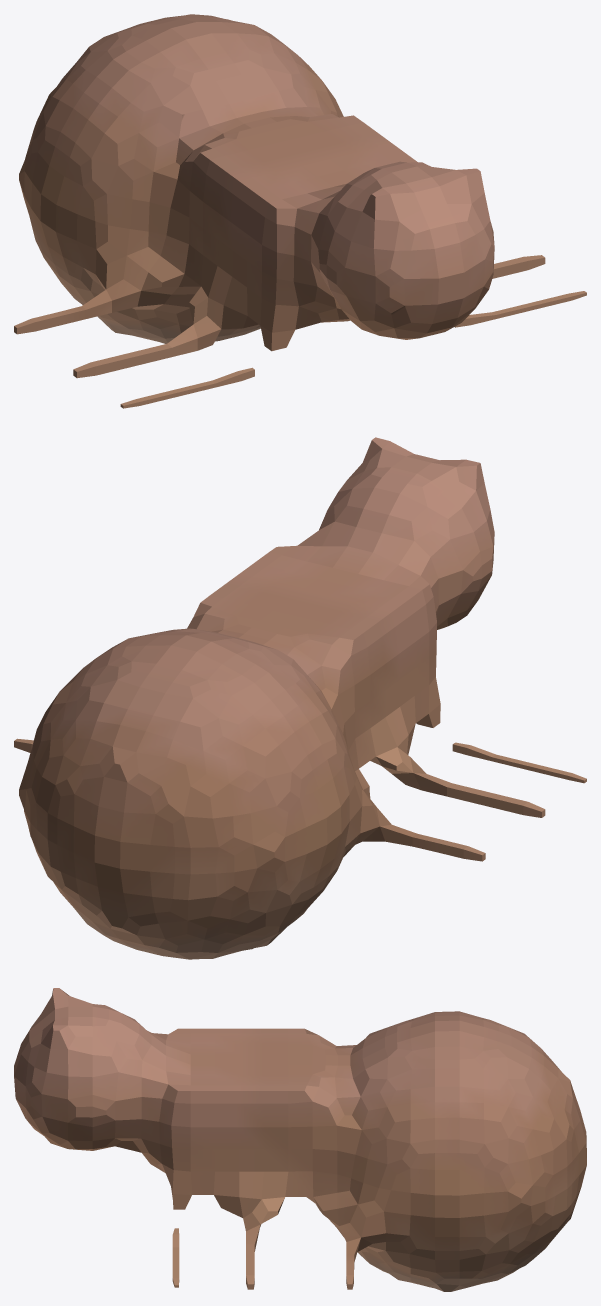
File: kingCrab.glb
3 renders of one model, top to bottom at view 1: azimuth 30°, elevation 25°; view 2: azimuth 150°, elevation 25°; view 3: azimuth 270°, elevation 25°, orthographic. The views are drawn at different scales.
Visible parts, largest first — view 1: geometry_0; view 2: geometry_0; view 3: geometry_0.
Boxes of the visible parts, x1,y1,x2,y2 form: geometry_0: [14, 14, 586, 408]; geometry_0: [14, 437, 586, 959]; geometry_0: [14, 988, 586, 1291].
Bounding box in the file's own units: 1.3 × 0.8487 × 1.66.
1 material, 1 textured.
